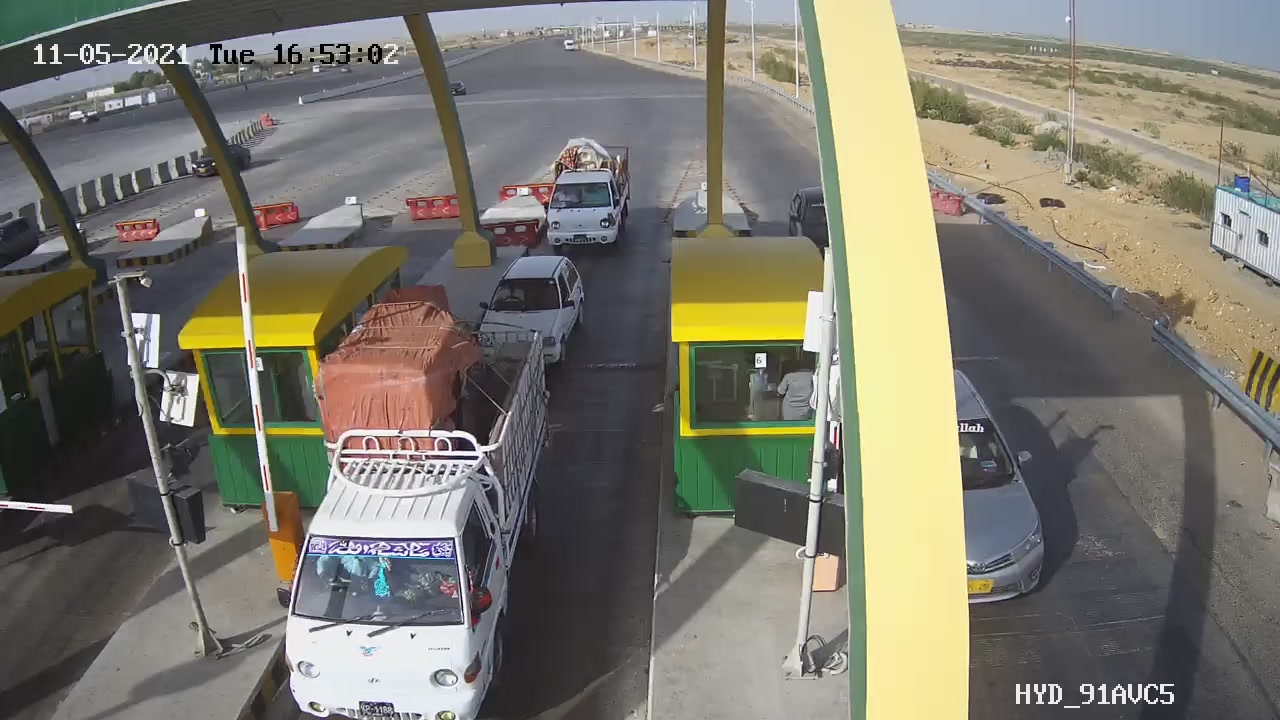F1: (458, 243, 607, 386)
